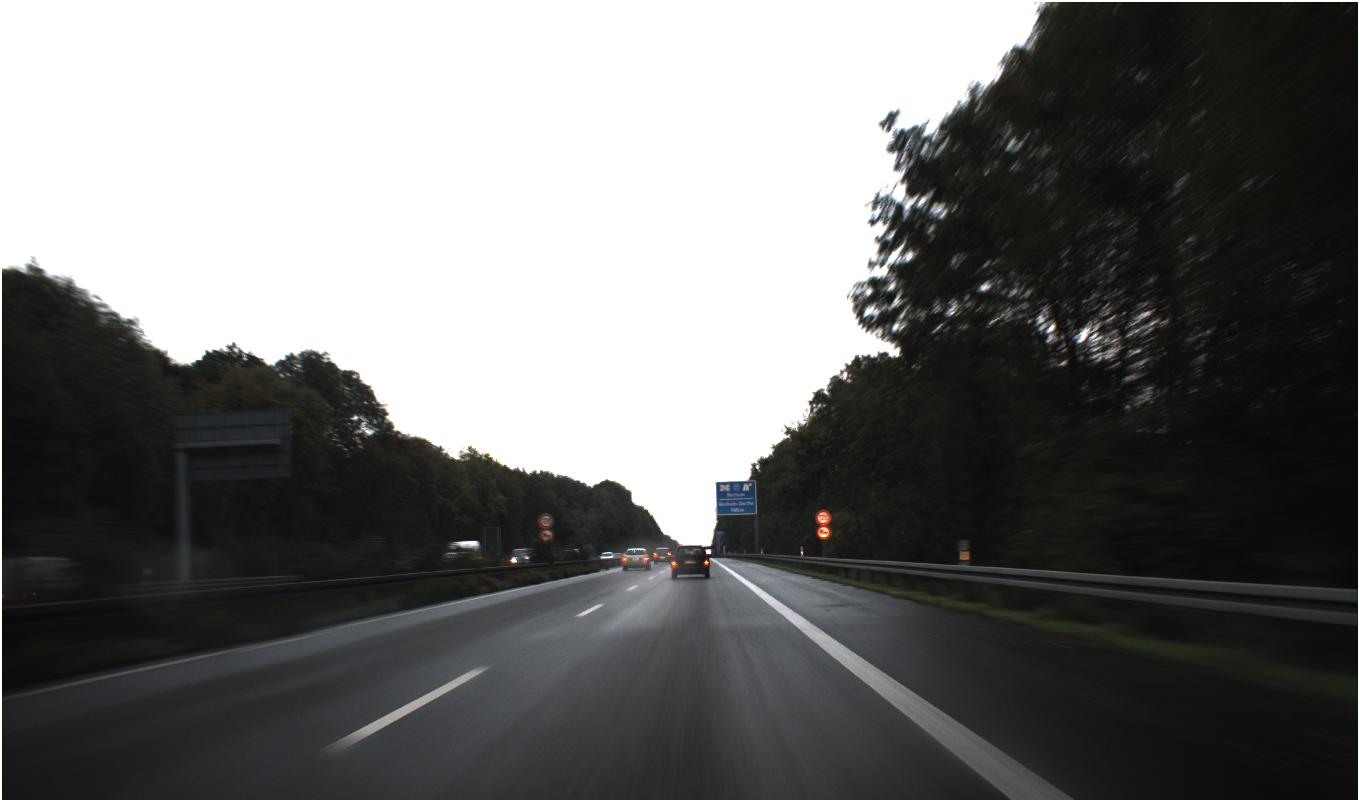prohibitory: (814, 508, 832, 526), (537, 512, 554, 529), (538, 528, 554, 544), (815, 525, 831, 541)
